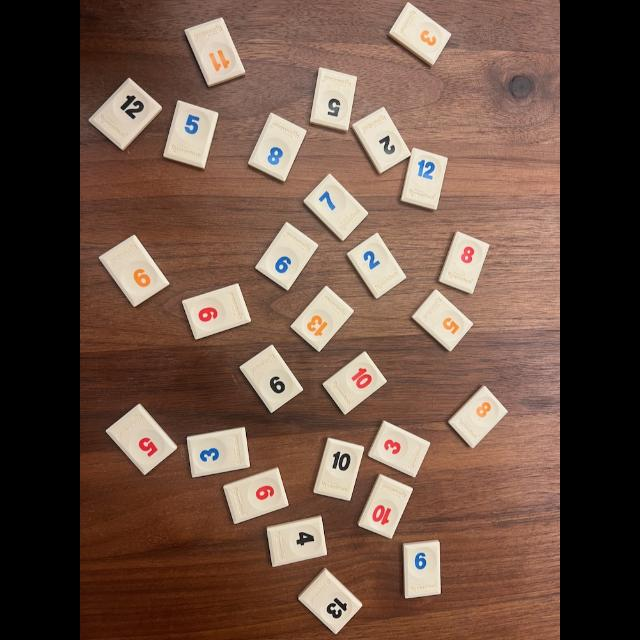black_10: (314, 438, 364, 501)
black_12: (89, 79, 162, 150)
black_13: (299, 569, 362, 634)
black_2: (352, 108, 411, 174)
black_4: (266, 516, 328, 566)
black_5: (310, 68, 358, 131)
black_9: (240, 345, 302, 412)
blue_12: (401, 148, 448, 210)
blue_2: (348, 232, 406, 299)
blue_3: (188, 428, 250, 478)
blue_5: (164, 101, 219, 169)
blue_6: (404, 540, 441, 599)
blue_7: (304, 174, 369, 240)
blue_8: (250, 114, 306, 181)
blue_9: (256, 222, 319, 290)
orange_11: (186, 18, 245, 86)
orange_13: (291, 286, 354, 351)
orange_3: (390, 2, 451, 65)
orange_5: (412, 290, 474, 351)
orange_8: (449, 386, 508, 448)
orange_9: (99, 235, 169, 306)
red_10: (324, 352, 386, 414), (359, 474, 414, 539)
red_3: (370, 421, 430, 476)
red_5: (106, 404, 178, 475)
red_6: (224, 468, 289, 524)
red_8: (440, 231, 490, 294)
red_9: (182, 284, 251, 339)
